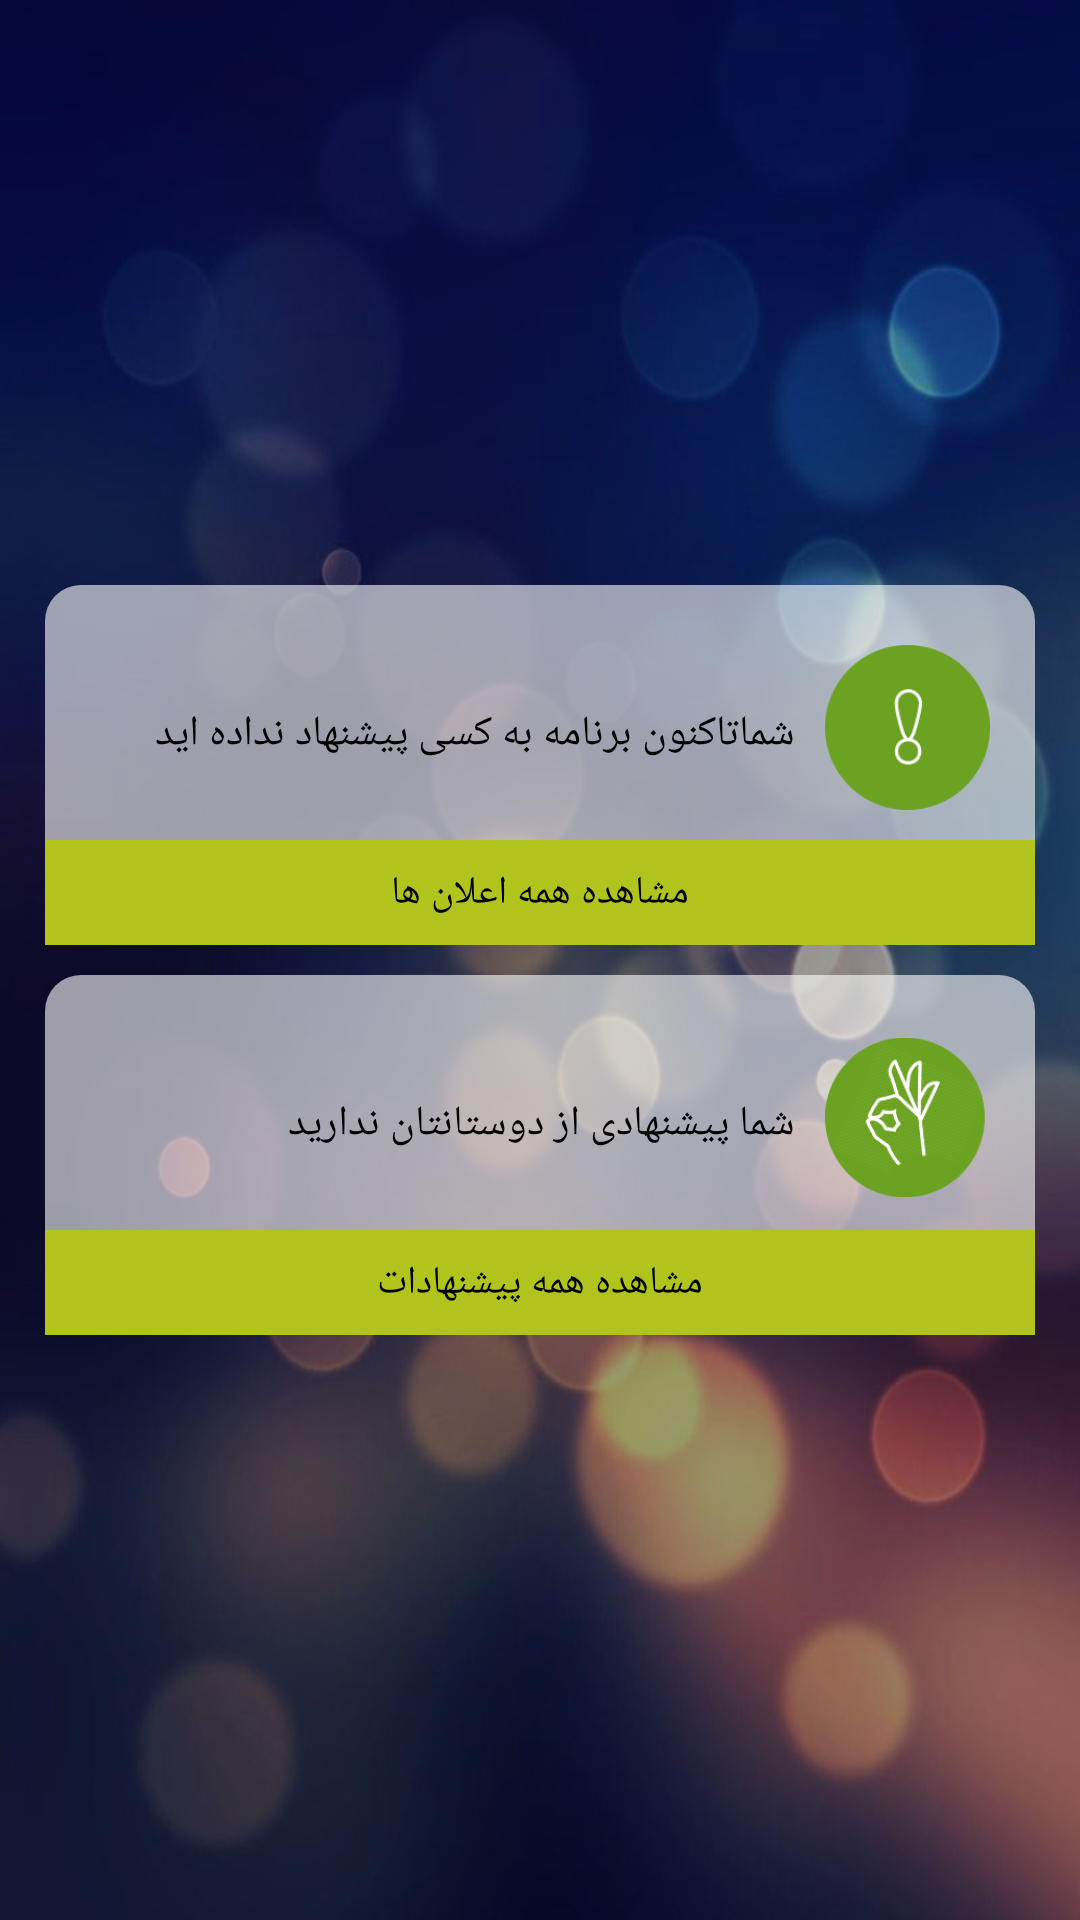

Icon bounding boxes for this 1080 x 1920 phone screenshot, format bbox=(x1, y1, x2, y2):
notif: bbox=(825, 645, 990, 810)
recom: bbox=(825, 1035, 985, 1200)
